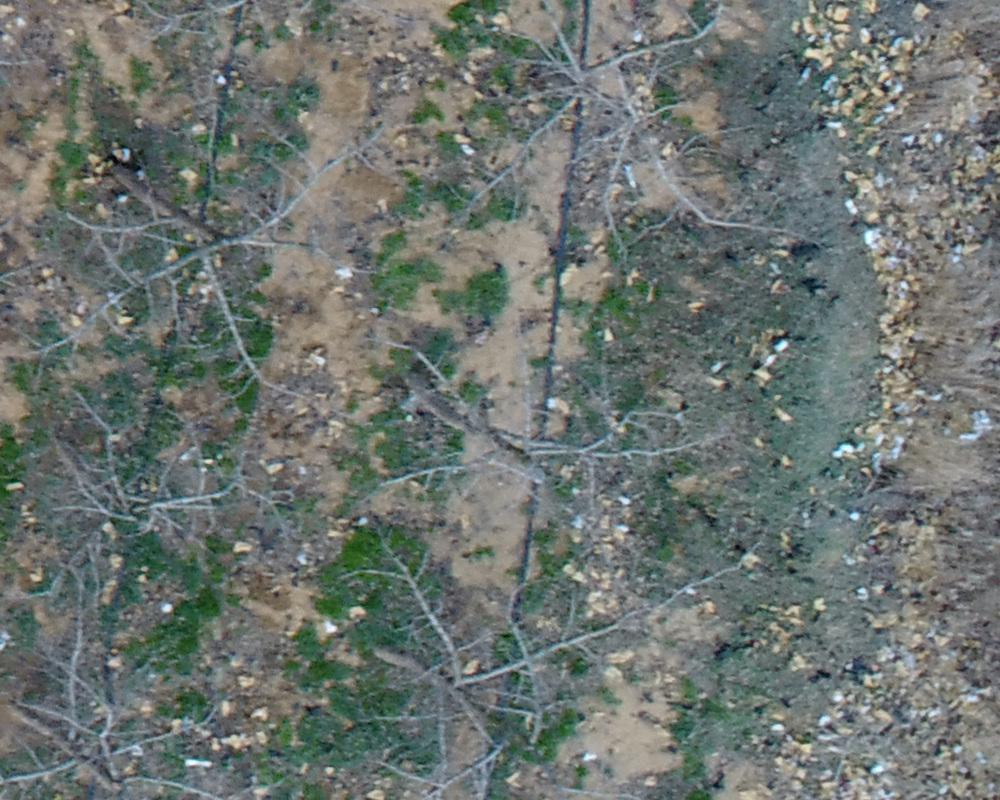apple: (300, 509, 759, 790), (36, 122, 391, 405), (434, 10, 811, 273), (10, 387, 298, 686), (334, 323, 712, 538), (10, 579, 279, 790)
